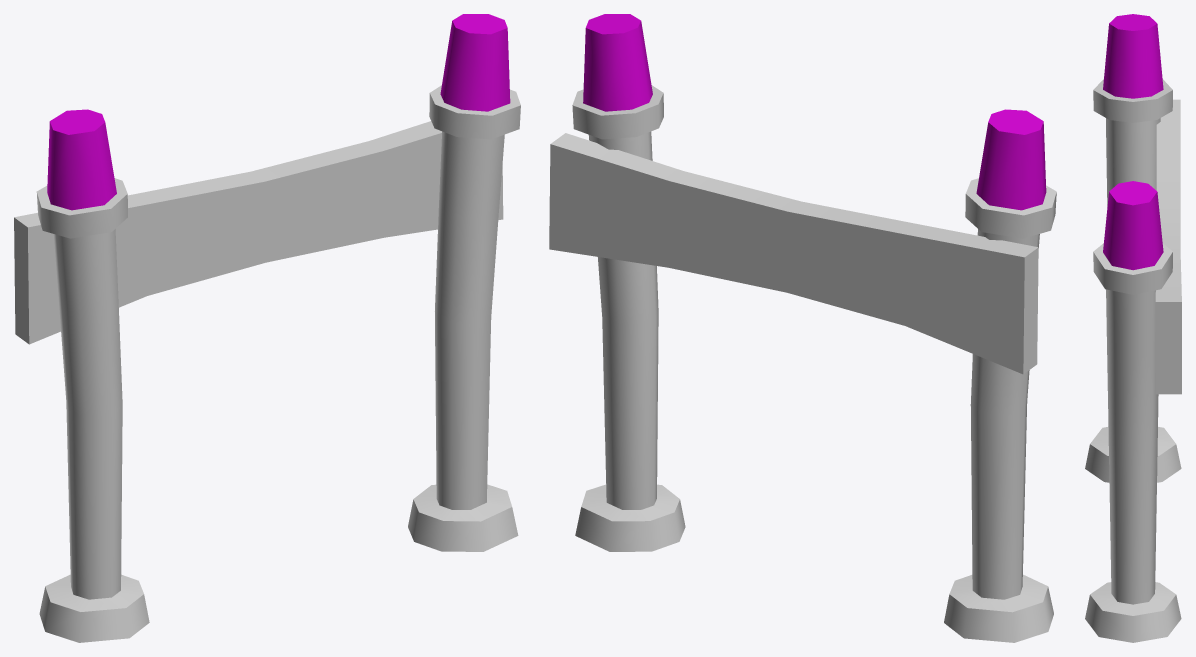
The model's file is obstacle-lightfence_01_H1g.glb.
3 views of the same model, side by side, from view 1: azimuth 30°, elevation 25°; view 2: azimuth 150°, elevation 25°; view 3: azimuth 270°, elevation 25° (orthographic). The views are drawn at different scales.
Visible parts, largest first — view 1: obstacle-lightfence_01_H1g; view 2: obstacle-lightfence_01_H1g; view 3: obstacle-lightfence_01_H1g.
Boxes of the visible parts, box(x1,y1,x2,y2) form: obstacle-lightfence_01_H1g: box(14, 14, 520, 642); obstacle-lightfence_01_H1g: box(549, 14, 1056, 642); obstacle-lightfence_01_H1g: box(1085, 14, 1181, 642).
Size of the model in its own units: 2.87 by 2.91 by 0.5846.
